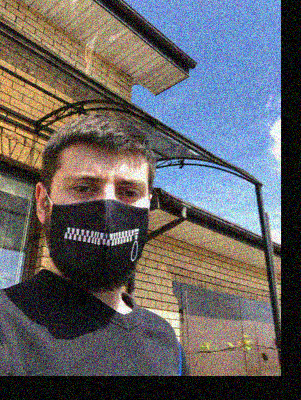with_mask: (46, 165, 152, 292)
